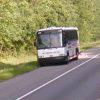Tree: (3, 0, 39, 50)
